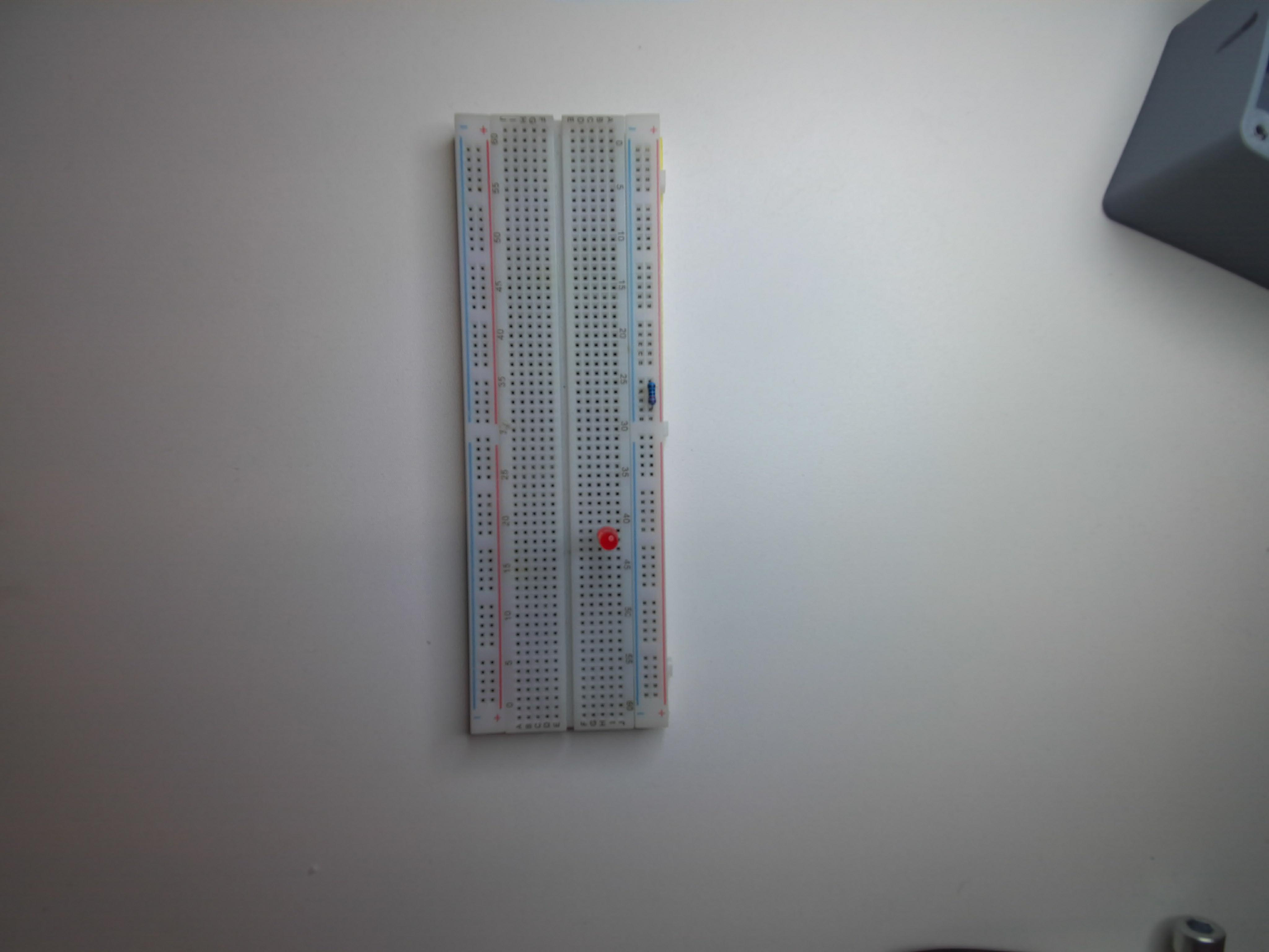base: (446, 111, 670, 742)
red-led: (595, 525, 620, 553)
resistor-small: (644, 378, 660, 408)
